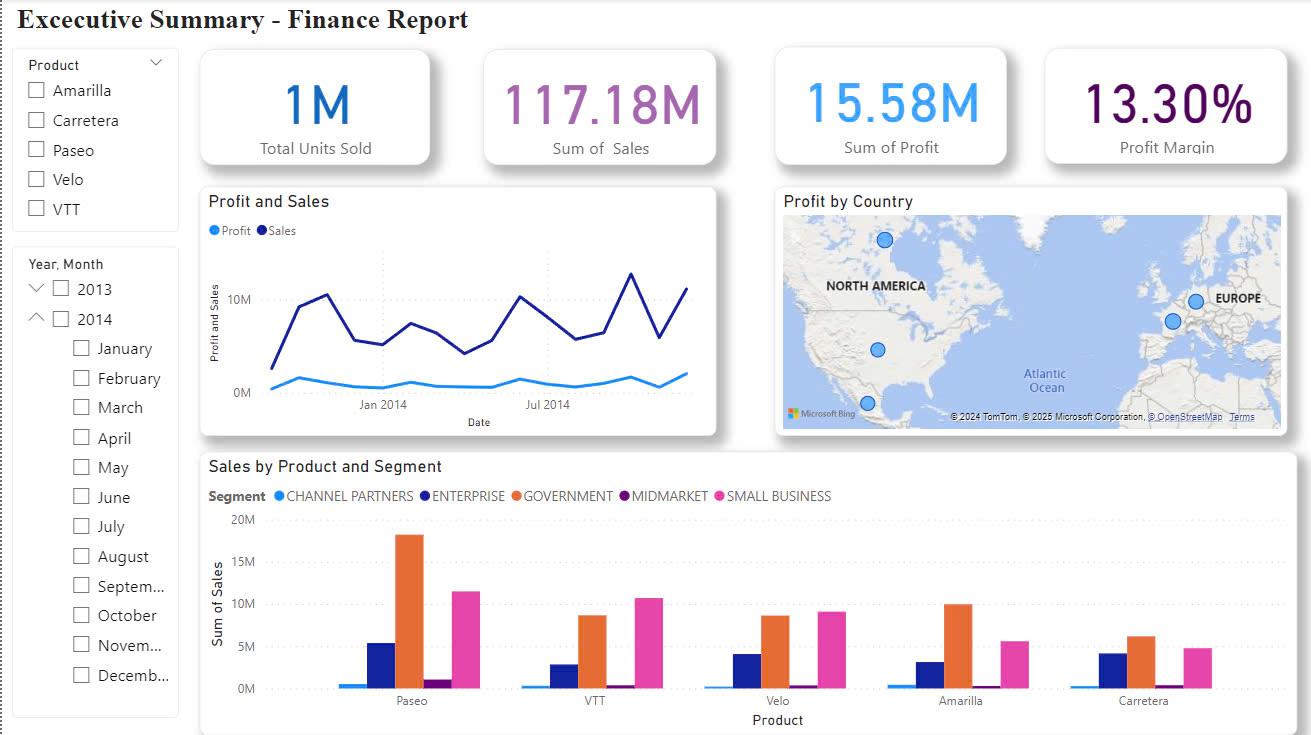

This screenshot's page, from the dashboard's own definition file:
{"tool":"powerbi","page":{"name":"Page 1","canvas":[1280,720],"ordinal":0},"visuals":[{"type":"textbox","box":[9.6,0,452.8,70],"z":0},{"type":"lineChart","title":"Profit and Sales","fields":{"Category":["Calendar.Date.Variation.Phân cấp ngày tháng.Năm"],"Y":["Sum(financials.Profit)","Sum(financials. Sales)"]},"box":[193,183.4,505.5,243.7],"z":1000},{"type":"map","title":"Profit by Country","fields":{"Category":["financials.Country"],"Size":["Sum(financials.Profit)"]},"box":[755.2,183.4,501.9,243.7],"z":2000},{"type":"clusteredColumnChart","title":"Sales by Product and Segment","fields":{"Y":["Sum(financials. Sales)"],"Category":["financials.Product"],"Series":["financials.Segment"]},"box":[193,442.5,1073.7,277.5],"z":3000},{"type":"card","fields":{"Values":["Sum(financials.Profit)"]},"box":[755.2,45.8,226.8,115.8],"z":4000},{"type":"card","fields":{"Values":["Sum(financials. Sales)"]},"box":[470.5,49.5,228,113.4],"z":5000},{"type":"card","fields":{"Values":["financials.Total Units Sold"]},"box":[193,49.5,225.6,113.4],"z":6000},{"type":"slicer","fields":{"Values":["financials.Product"]},"box":[9.7,48.3,162.9,179.8],"z":7000},{"type":"card","fields":{"Values":["financials.Profit Margin"]},"box":[1019.4,48.3,237.7,113.4],"z":8000},{"type":"slicer","fields":{"Values":["Calendar.Date.Variation.Date Hierarchy.Year","Calendar.Date.Variation.Date Hierarchy.Month"]},"box":[9.7,242.5,162.9,460.9],"z":9000}]}

Visuals, with their boxes in screenshot pixels (x1, y1, x2, y2), scaled from the page's 1280x720 canvas onto the 1311x735 screenshot:
textbox: locate(10, 0, 474, 71)
"Profit and Sales" lineChart: locate(198, 187, 715, 436)
"Profit by Country" map: locate(773, 187, 1288, 436)
"Sales by Product and Segment" clusteredColumnChart: locate(198, 452, 1297, 734)
card - Sum(financials.Profit): locate(773, 47, 1006, 165)
card - Sum(financials. Sales): locate(482, 51, 715, 166)
card - financials.Total Units Sold: locate(198, 51, 429, 166)
slicer - financials.Product: locate(10, 49, 177, 233)
card - financials.Profit Margin: locate(1044, 49, 1288, 165)
slicer - Calendar.Date.Variation.Date Hierarchy.Year x Calendar.Date.Variation.Date Hierarchy.Month: locate(10, 248, 177, 718)
